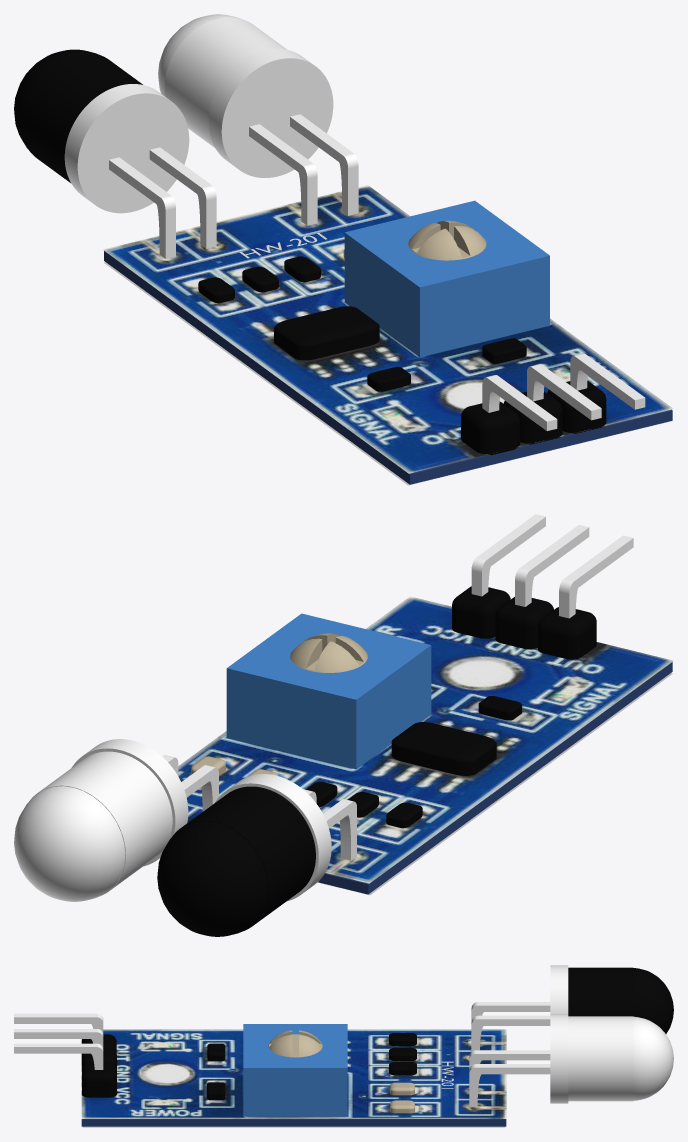
Rendered from IRSensor.fbx.
The picture shows the model from 3 angles, top to bottom: view 1: azimuth 30°, elevation 25°; view 2: azimuth 150°, elevation 25°; view 3: azimuth 270°, elevation 25°; orthographic projection. The views are drawn at different scales.
Parts seen in each view (by area): view 1: Object_1, Object_2, Object_26, Object_18, Object_32, Object_24, Object_0, Object_3, Object_11, Object_4, Object_22, Object_23 (+15 smaller); view 2: Object_1, Object_2, Object_33, Object_25, Object_24, Object_32, Object_3, Object_0, Object_26, Object_18, Object_11, Object_4 (+10 smaller); view 3: Object_1, Object_2, Object_24, Object_0, Object_32, Object_25, Object_33, Object_18, Object_22, Object_17, Object_4, Object_9 (+16 smaller).
Part boxes in pixels (bbox=[...]): Object_1: bbox=[103, 185, 673, 473]; Object_2: bbox=[344, 200, 549, 357]; Object_26: bbox=[64, 84, 189, 213]; Object_18: bbox=[208, 48, 333, 177]; Object_32: bbox=[20, 52, 142, 182]; Object_24: bbox=[164, 17, 287, 148]; Object_0: bbox=[104, 251, 672, 484]; Object_3: bbox=[274, 306, 379, 360]; Object_11: bbox=[461, 401, 520, 455]; Object_4: bbox=[408, 220, 486, 260]; Object_22: bbox=[290, 114, 358, 215]; Object_23: bbox=[249, 124, 317, 225]; Object_1: bbox=[178, 596, 673, 883]; Object_2: bbox=[226, 613, 431, 769]; Object_33: bbox=[157, 821, 268, 936]; Object_25: bbox=[14, 786, 125, 901]; Object_24: bbox=[29, 751, 172, 895]; Object_32: bbox=[172, 786, 315, 930]; Object_3: bbox=[391, 722, 496, 775]; Object_0: bbox=[318, 662, 672, 894]; Object_26: bbox=[215, 774, 331, 901]; Object_18: bbox=[71, 739, 188, 866]; Object_11: bbox=[538, 607, 596, 659]; Object_4: bbox=[290, 633, 367, 672]; Object_1: bbox=[81, 1029, 506, 1118]; Object_2: bbox=[243, 1024, 347, 1116]; Object_24: bbox=[568, 1016, 633, 1101]; Object_0: bbox=[81, 1119, 506, 1126]; Object_32: bbox=[568, 967, 633, 1016]; Object_25: bbox=[633, 1016, 673, 1100]; Object_33: bbox=[633, 968, 673, 1033]; Object_18: bbox=[550, 1014, 568, 1103]; Object_22: bbox=[469, 1064, 550, 1106]; Object_17: bbox=[14, 1043, 103, 1069]; Object_4: bbox=[268, 1030, 322, 1057]; Object_9: bbox=[82, 1063, 116, 1097].
Bounding box in the file's own units: 12815 × 6486 × 39808.
